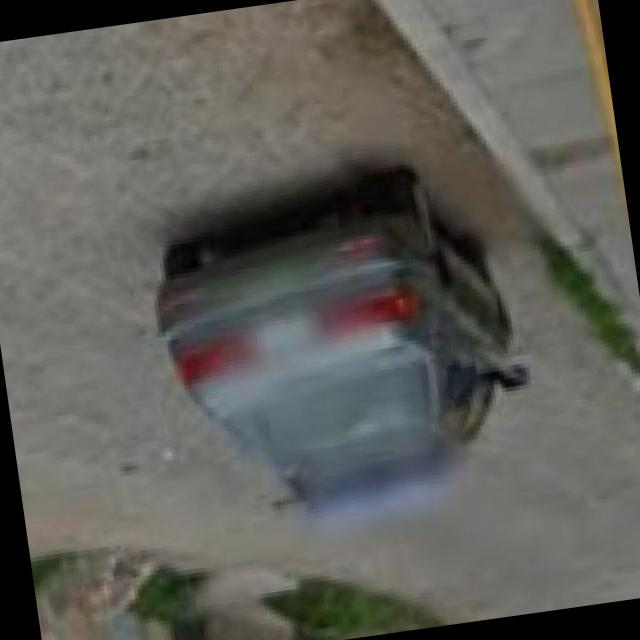car: (147, 165, 540, 523)
